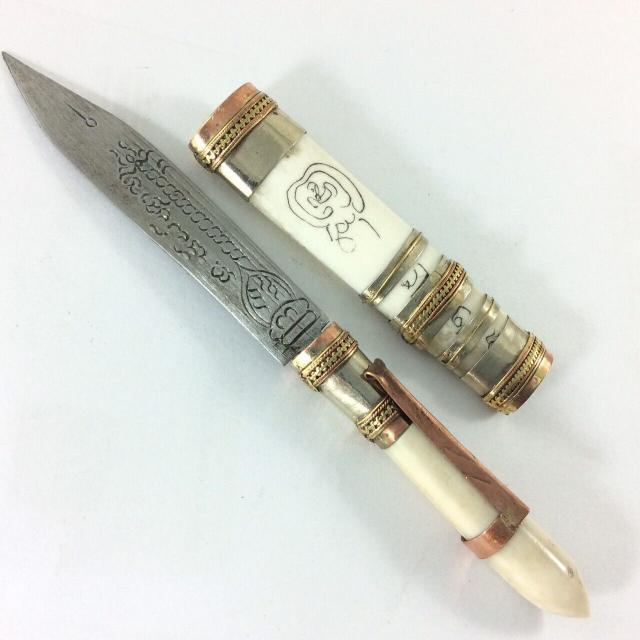short sword: (1, 45, 598, 626)
